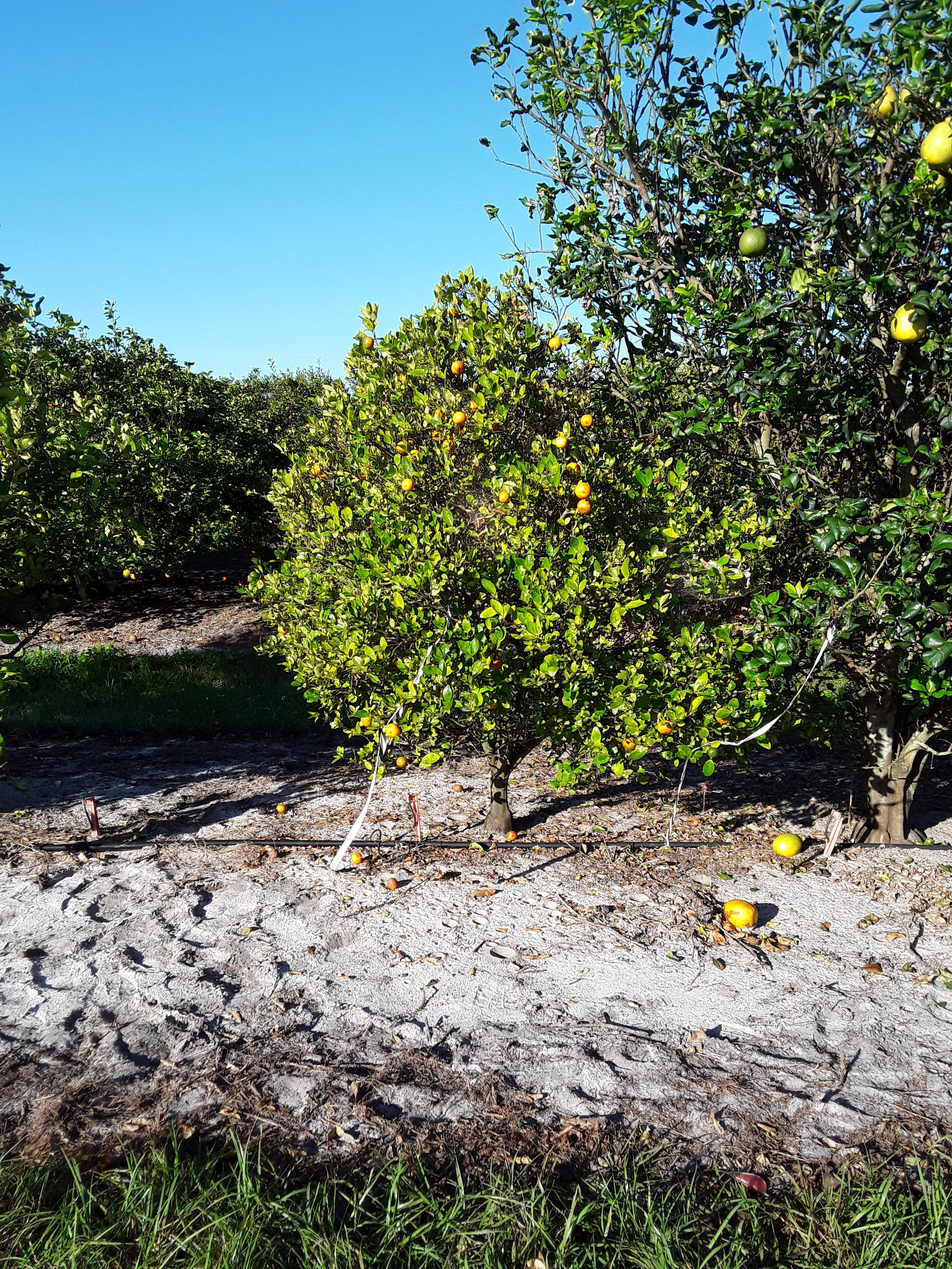fruit_on_ground: (867, 75, 902, 123), (892, 299, 925, 347), (922, 122, 952, 173), (740, 222, 771, 264), (655, 714, 676, 739), (621, 733, 640, 754), (575, 498, 595, 517), (565, 461, 586, 479), (468, 456, 487, 475), (383, 722, 401, 742), (574, 482, 595, 499), (308, 459, 326, 478), (714, 705, 731, 725), (483, 418, 505, 433), (548, 335, 565, 354), (487, 655, 507, 671), (483, 696, 504, 711), (464, 397, 482, 414), (450, 360, 467, 378), (356, 465, 373, 482), (274, 620, 290, 638), (451, 410, 469, 425), (400, 477, 415, 494), (395, 439, 413, 453), (552, 435, 571, 448), (359, 712, 374, 728), (361, 334, 376, 350), (396, 371, 411, 387), (579, 413, 595, 427), (407, 447, 423, 461), (492, 407, 509, 420), (432, 407, 446, 422), (496, 489, 511, 503), (394, 752, 408, 767), (486, 356, 500, 371), (431, 427, 442, 444), (443, 438, 455, 453), (446, 305, 460, 317), (164, 569, 174, 579), (121, 567, 131, 577), (130, 572, 138, 582)
fruit_on_tree: (720, 895, 761, 931), (768, 831, 805, 858), (348, 850, 364, 868), (504, 829, 520, 844), (384, 877, 401, 890), (453, 782, 467, 794), (275, 801, 287, 814), (129, 633, 138, 642)
